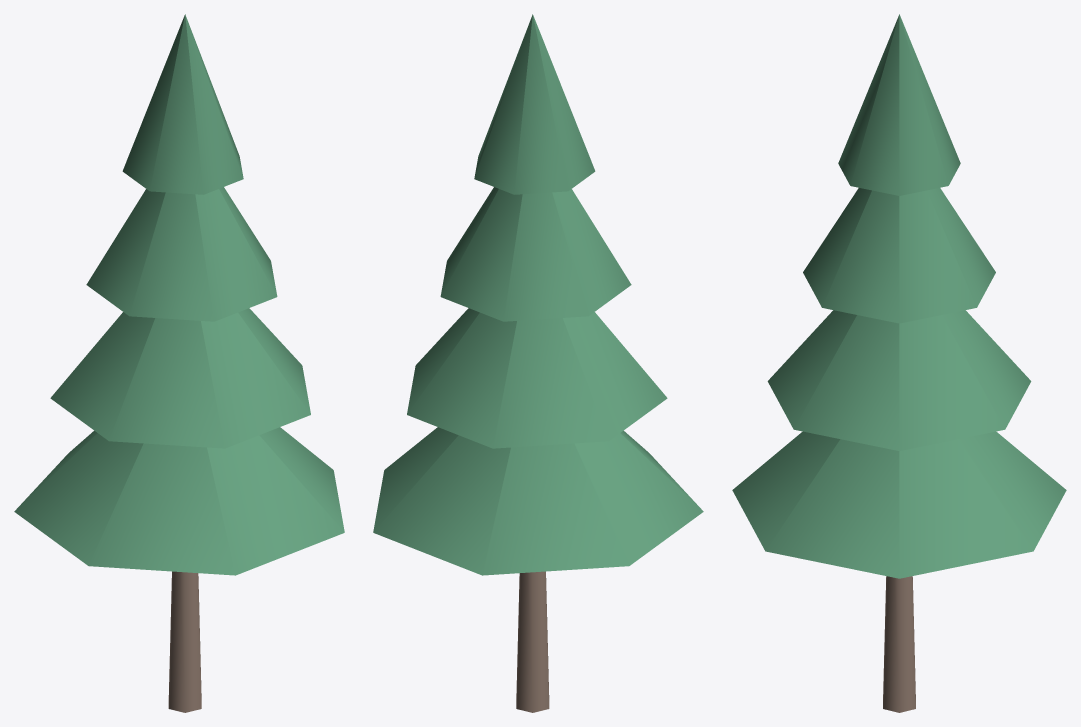
File: tree_pine.glb
3 views of the same model, side by side, from view 1: azimuth 30°, elevation 25°; view 2: azimuth 150°, elevation 25°; view 3: azimuth 270°, elevation 25° (orthographic).
Visible parts, largest first — view 1: tree_pine; view 2: tree_pine; view 3: tree_pine.
Part boxes in pixels (bbox=[...]): tree_pine: bbox=[14, 14, 344, 712]; tree_pine: bbox=[373, 14, 703, 712]; tree_pine: bbox=[732, 14, 1066, 712].
Bounding box in the file's own units: 3.42 × 8 × 3.51.
